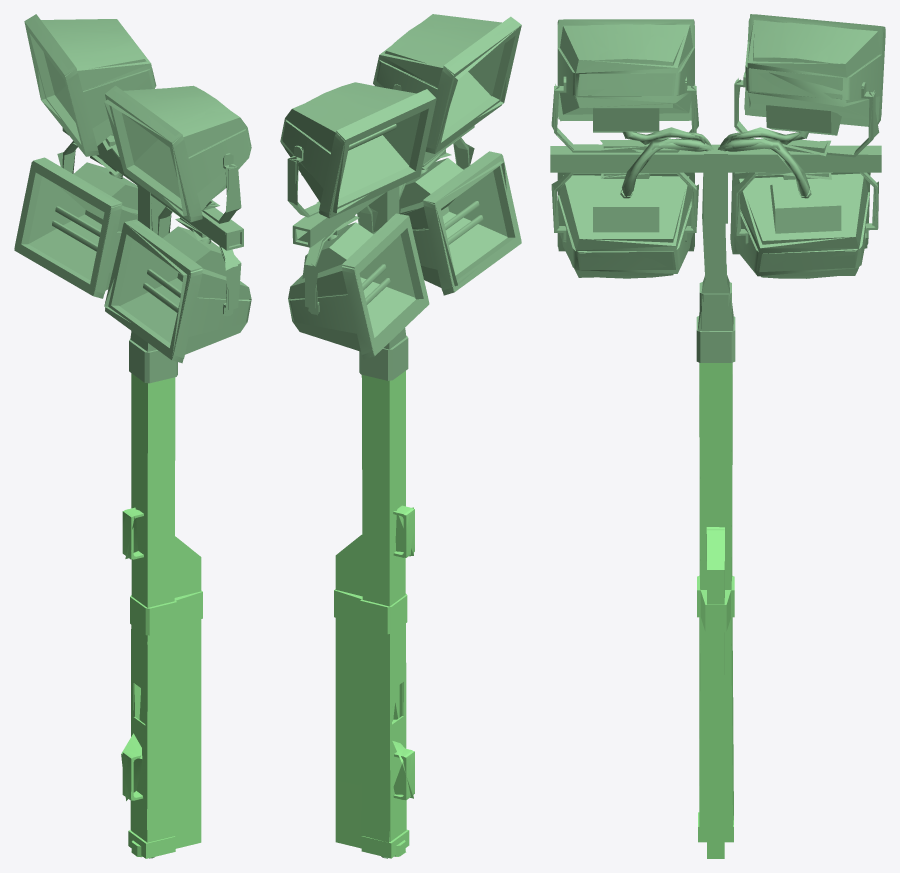
Rendered from SM_LightGenerator_01c.FBX.
3 views of the same model, side by side, from view 1: azimuth 30°, elevation 25°; view 2: azimuth 150°, elevation 25°; view 3: azimuth 270°, elevation 25° (orthographic).
Parts seen in each view (by area): view 1: SM_LightGenerator_Lights_01a_SM_LightGenerator_Lights_01a_LO (×4); view 2: SM_LightGenerator_Lights_01a_SM_LightGenerator_Lights_01a_LO (×4); view 3: SM_LightGenerator_Lights_01a_SM_LightGenerator_Lights_01a_LO (×4).
Part boxes in pixels (left/top/right/bottom): SM_LightGenerator_Lights_01a_SM_LightGenerator_Lights_01a_LO (×4): left=14, top=14, right=251, bottom=858; SM_LightGenerator_Lights_01a_SM_LightGenerator_Lights_01a_LO (×4): left=280, top=14, right=521, bottom=858; SM_LightGenerator_Lights_01a_SM_LightGenerator_Lights_01a_LO (×4): left=550, top=14, right=885, bottom=858.
Size of what is drawn, in the model's own units: 44.89 by 296 by 112.
